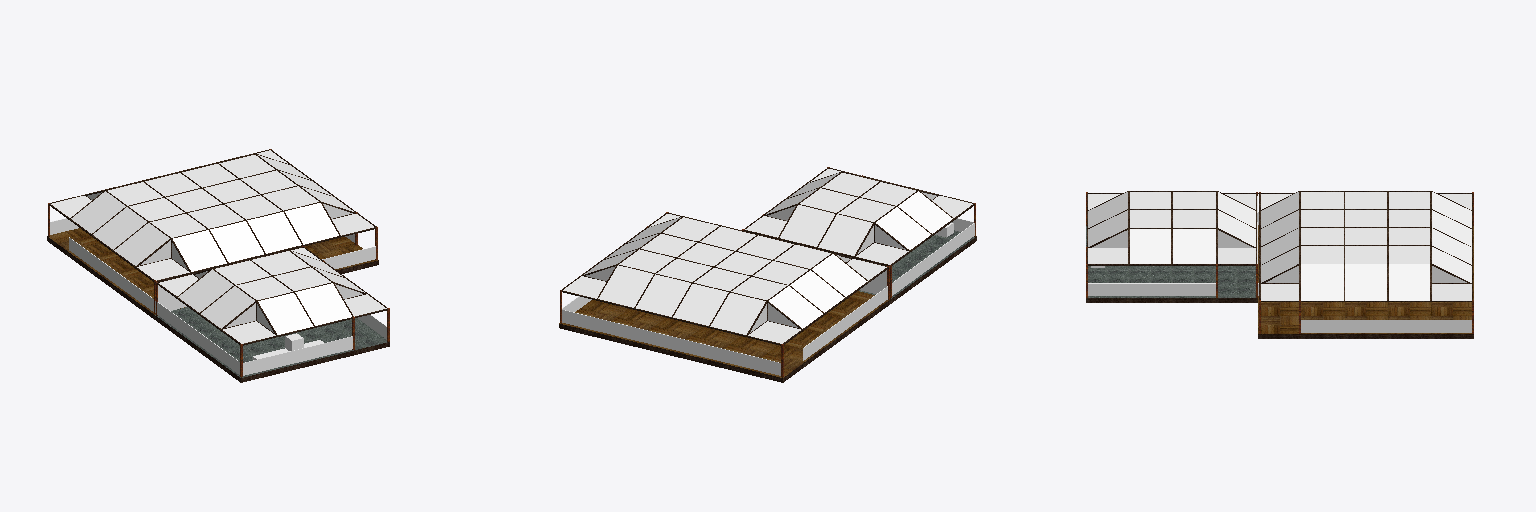
3 views of the same model, side by side, from view 1: azimuth 30°, elevation 25°; view 2: azimuth 150°, elevation 25°; view 3: azimuth 270°, elevation 25° (orthographic).
Visible parts, largest first — view 1: entity0_brush49, entity0_brush72, entity0_brush1, entity0_brush84, entity0_brush0, entity0_brush128, entity0_brush127, entity0_brush126, entity0_brush129, entity0_brush125, entity0_brush31, entity0_brush124 (+4 smaller); view 2: entity0_brush49, entity0_brush0, entity0_brush20, entity0_brush84, entity0_brush128, entity0_brush5, entity0_brush116, entity0_brush126, entity0_brush129, entity0_brush1, entity0_brush31, entity0_brush10 (+2 smaller); view 3: entity0_brush49, entity0_brush0, entity0_brush31, entity0_brush1, entity0_brush103, entity0_brush128, entity0_brush20, entity0_brush72, entity0_brush4, entity0_brush9, entity0_brush127, entity0_brush116 (+4 smaller).
Part boxes in pixels (x1,y1,x2,y2): entity0_brush49: (108,155,318,237); entity0_brush72: (173,203,338,271); entity0_brush1: (155,307,389,382); entity0_brush84: (71,191,169,265); entity0_brush0: (47,228,378,319); entity0_brush128: (215,251,330,299); entity0_brush127: (258,283,351,334); entity0_brush126: (69,237,239,374); entity0_brush129: (178,269,254,328); entity0_brush125: (243,336,352,375); entity0_brush31: (258,155,353,211); entity0_brush124: (223,321,275,343); entity0_brush49: (619,217,830,299); entity0_brush0: (559,291,890,382); entity0_brush20: (598,265,765,334); entity0_brush84: (769,254,867,328); entity0_brush128: (800,173,915,221); entity0_brush5: (562,310,780,375); entity0_brush116: (780,205,872,255); entity0_brush126: (803,223,974,360); entity0_brush129: (876,191,952,249); entity0_brush1: (859,230,976,303); entity0_brush31: (584,217,680,274); entity0_brush10: (748,321,800,343); entity0_brush49: (1301,192,1429,263); entity0_brush0: (1258,225,1473,338); entity0_brush31: (1301,264,1429,300); entity0_brush1: (1086,226,1257,302); entity0_brush103: (1130,229,1215,263); entity0_brush128: (1130,192,1215,227); entity0_brush20: (1432,192,1471,282); entity0_brush72: (1261,192,1298,282); entity0_brush4: (1301,320,1471,332); entity0_brush9: (1088,283,1215,295); entity0_brush127: (1088,192,1127,246); entity0_brush116: (1218,192,1255,246).
Bounding box in the file's own units: 768 × 187 × 1152.
11 materials, 5 textured.